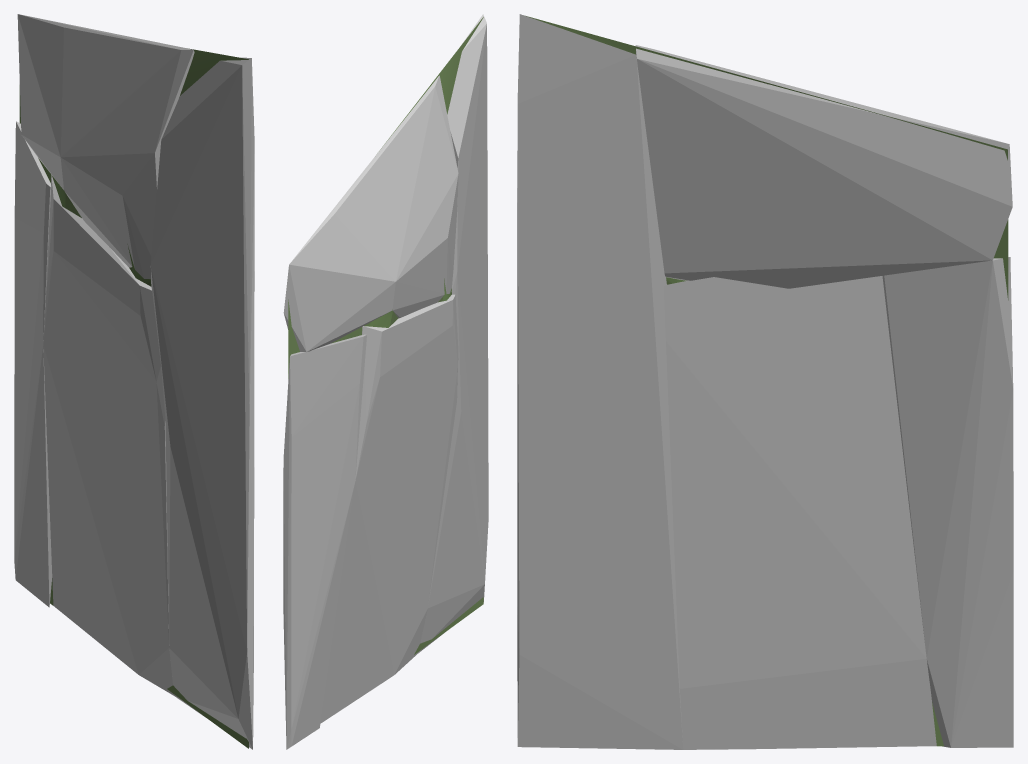
Rendered from SM_Env_Leaves_Clump_04.fbx.
3 renders of one model, left to right at view 1: azimuth 30°, elevation 25°; view 2: azimuth 150°, elevation 25°; view 3: azimuth 270°, elevation 25°, orthographic. The views are drawn at different scales.
Parts seen in each view (by area): view 1: SM_Env_Leaves_Clump_04_ConvexHulls, SM_Env_Leaves_Clump_04; view 2: SM_Env_Leaves_Clump_04_ConvexHulls, SM_Env_Leaves_Clump_04; view 3: SM_Env_Leaves_Clump_04_ConvexHulls, SM_Env_Leaves_Clump_04.
Part boxes in pixels (x1,y1,x2,y2): SM_Env_Leaves_Clump_04_ConvexHulls: [14, 14, 254, 749]; SM_Env_Leaves_Clump_04: [19, 48, 248, 748]; SM_Env_Leaves_Clump_04_ConvexHulls: [283, 14, 488, 749]; SM_Env_Leaves_Clump_04: [288, 17, 483, 654]; SM_Env_Leaves_Clump_04_ConvexHulls: [517, 14, 1013, 749]; SM_Env_Leaves_Clump_04: [525, 15, 1008, 746].
Size of the model in its own units: 9.91 by 86.78 by 142.
2 materials, 1 textured.
